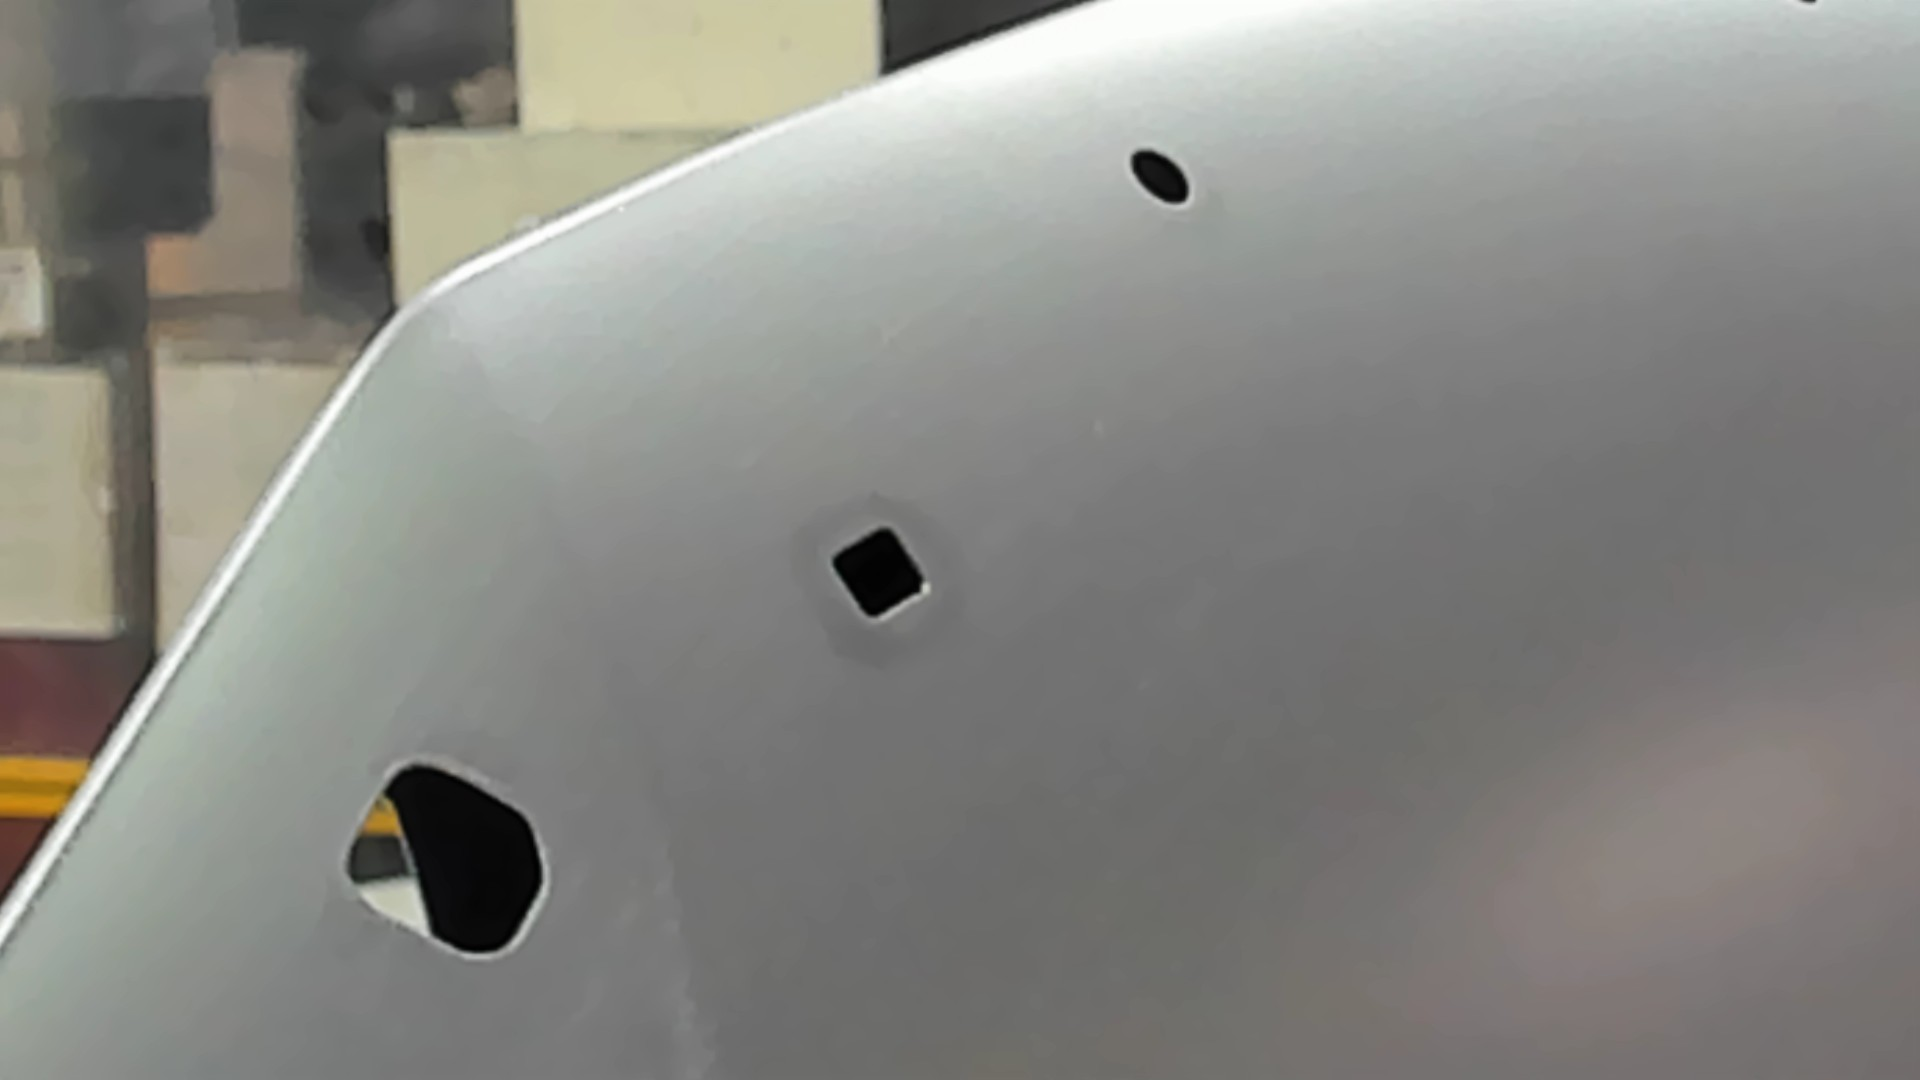chico: (1124, 144, 1192, 208)
grande: (334, 756, 559, 967)
mediano: (820, 520, 938, 628)
